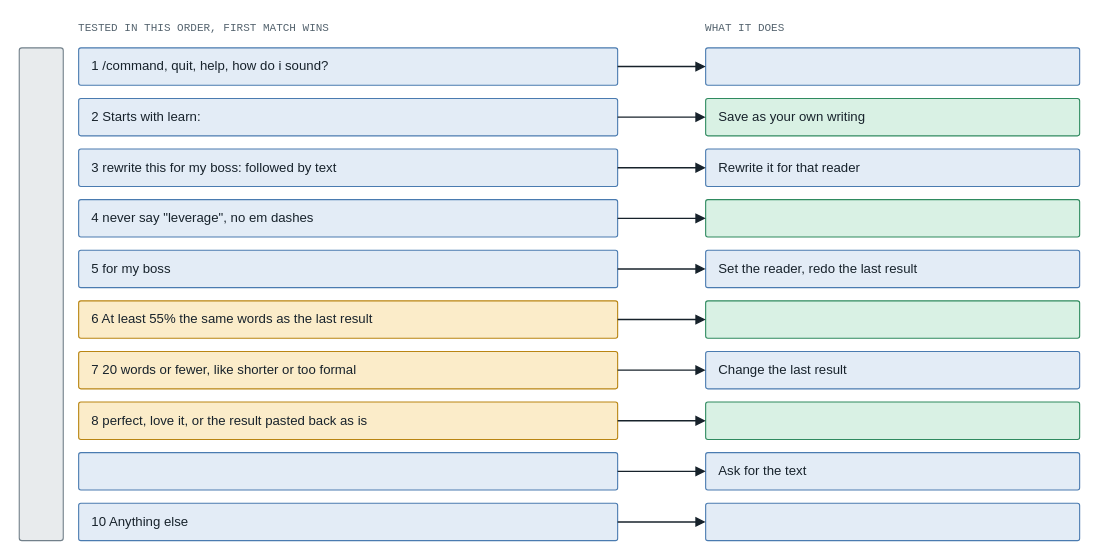
The diagram is 1099 pixels wide and 560 high, and some of its shapes have lost their labels. The shapes that lost their labels are listed below. From the top down, each one's centre as x and y in pixels, then its label:
At point (892, 66): "Run that command".
At point (892, 218): "Save a rule, always followed".
At point (40, 294): "what you typed".
At point (892, 319): "Learn from your edit".
At point (892, 420): "Keep as an example of you".
At point (348, 471): "9 Two words or fewer".
At point (892, 521): "Rewrite it".
